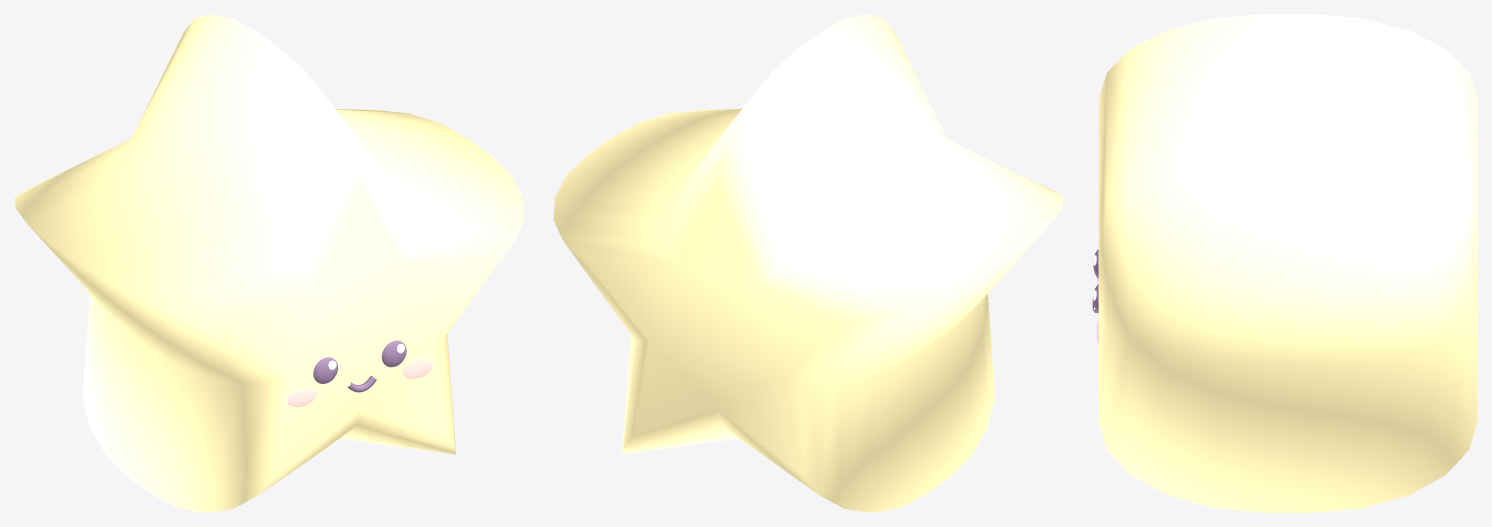
File: squishy_star.glb
The picture shows the model from 3 angles, left to right: view 1: azimuth 30°, elevation 25°; view 2: azimuth 150°, elevation 25°; view 3: azimuth 270°, elevation 25°; orthographic projection. The views are drawn at different scales.
Visible parts, largest first — view 1: star; view 2: star; view 3: star.
Boxes of the visible parts, x1,y1,x2,y2 form: star: [14, 14, 524, 512]; star: [553, 14, 1063, 512]; star: [1092, 14, 1477, 512].
Bounding box in the file's own units: 1.07 × 1 × 0.8074.
